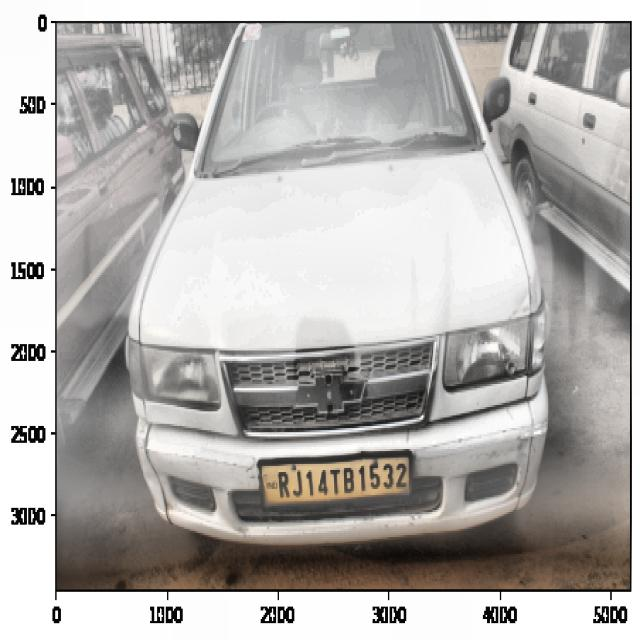license_plate: (271, 455, 412, 507)
